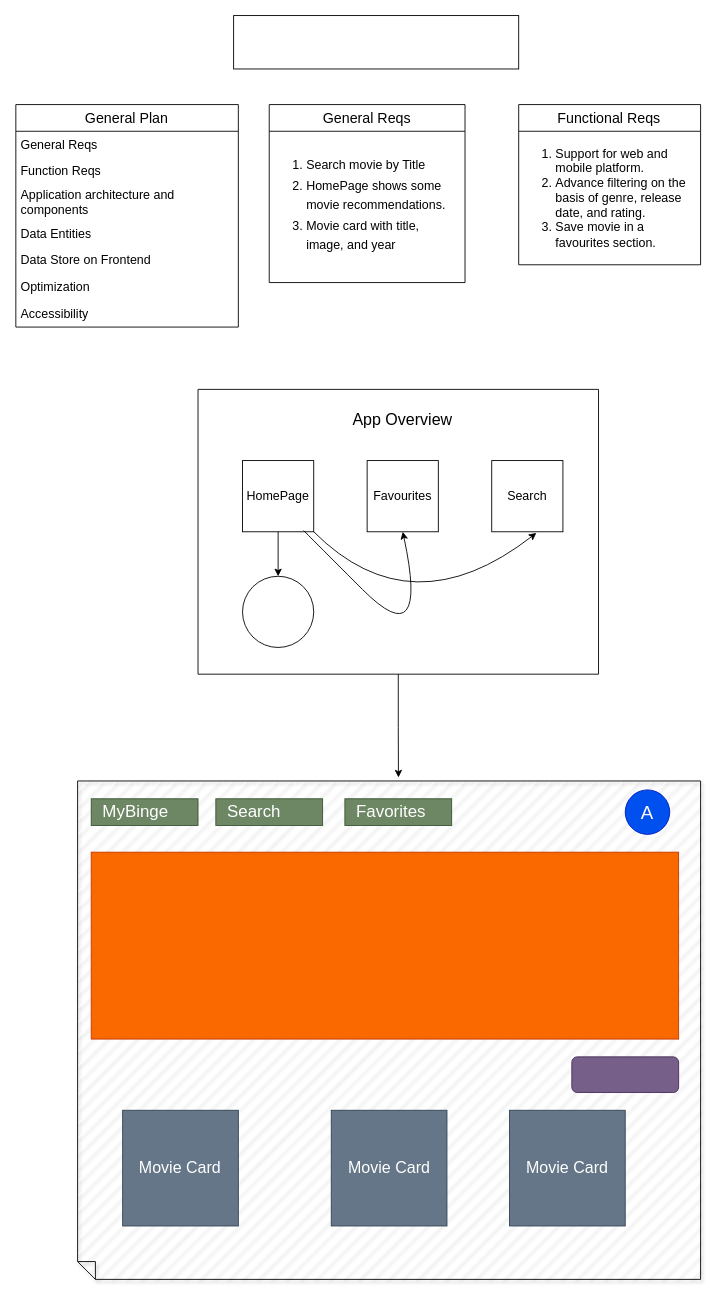
Some shapes in this 722 by 1301 pixel diagram are drawn without their labels. Each missing label, with the centre of its shape:
Featured Movie: the point at 384,945
Filter: the point at 625,1074
Filtering: the point at 278,611
MyBinge Movie Application: the point at 376,42
